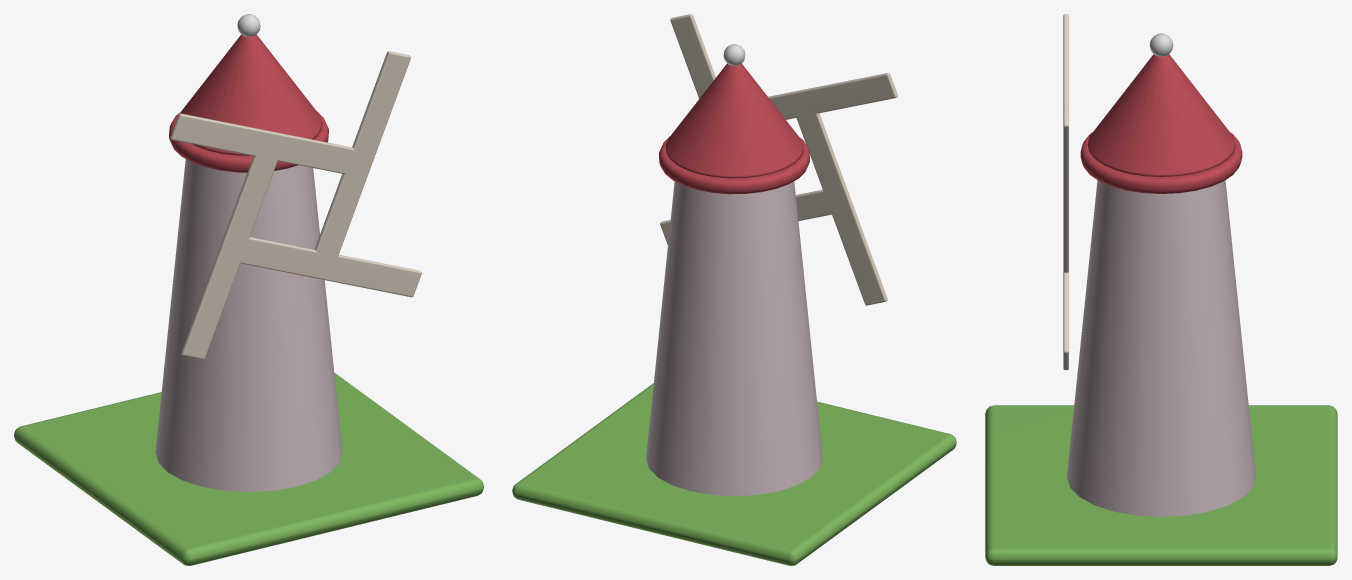
The picture shows the model from 3 angles, left to right: view 1: azimuth 30°, elevation 25°; view 2: azimuth 150°, elevation 25°; view 3: azimuth 270°, elevation 25°; orthographic projection. The views are drawn at different scales.
Parts seen in each view (by area): view 1: Cube; view 2: Cube; view 3: Cube.
Boxes of the visible parts, bbox=[...] form: Cube: bbox=[14, 14, 483, 565]; Cube: bbox=[512, 14, 956, 565]; Cube: bbox=[985, 14, 1337, 565].
Size of the model in its own units: 0.74 by 1.06 by 0.74.
